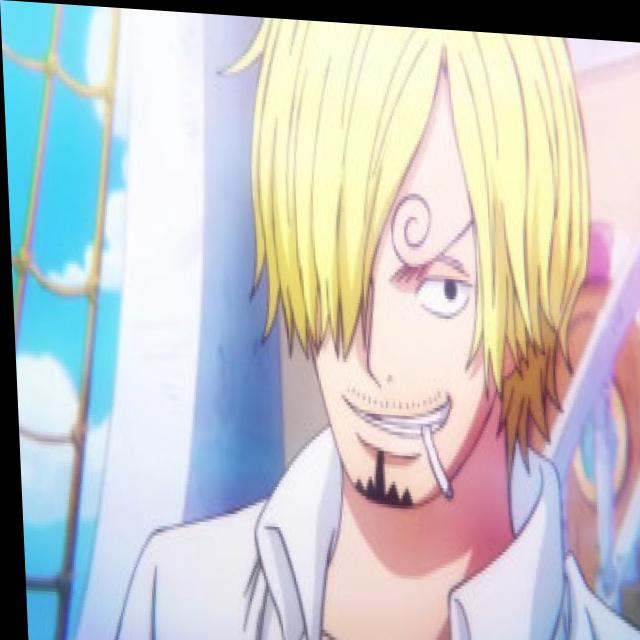Sangdi: (228, 12, 595, 524)
